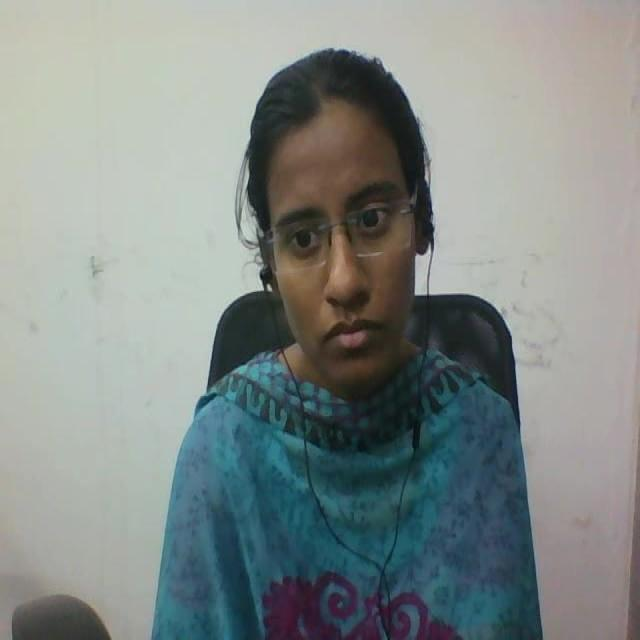Engaged: (228, 39, 504, 457)
